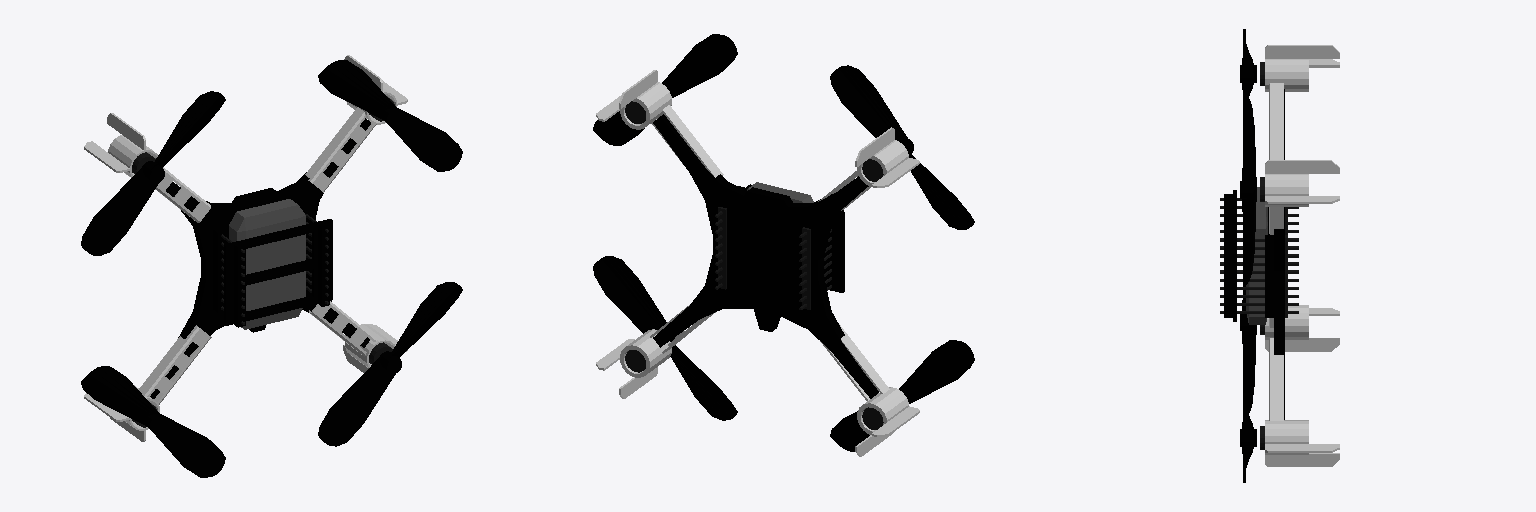
File: cf2_assembly.obj
3 views of the same model, side by side, from view 1: azimuth 30°, elevation 25°; view 2: azimuth 150°, elevation 25°; view 3: azimuth 270°, elevation 25° (orthographic).
Parts seen in each view (by area): view 1: cw_prop, motor_mount, cf_body.001, battery, battery_holder, Cylinder, pin_headers; view 2: cf_body.001, cw_prop, motor_mount, pin_headers, Cylinder, battery_holder; view 3: motor_mount, cw_prop, cf_body.001, pin_headers, battery_holder, battery.
Boxes of the visible parts, <box> form: cw_prop: <box>81,60,462,477</box>; motor_mount: <box>84,55,407,441</box>; cf_body.001: <box>150,118,370,398</box>; battery: <box>229,199,305,329</box>; battery_holder: <box>224,219,332,327</box>; Cylinder: <box>132,98,394,427</box>; pin_headers: <box>221,214,328,324</box>; cf_body.001: <box>653,114,878,398</box>; cw_prop: <box>593,34,974,451</box>; motor_mount: <box>596,70,919,456</box>; pin_headers: <box>715,207,831,309</box>; Cylinder: <box>625,101,883,429</box>; battery_holder: <box>738,184,844,292</box>; motor_mount: <box>1265,45,1339,466</box>; cw_prop: <box>1240,29,1256,482</box>; cf_body.001: <box>1265,89,1284,419</box>; pin_headers: <box>1220,198,1298,317</box>; battery_holder: <box>1224,190,1236,321</box>; battery: <box>1246,187,1267,324</box>.
Size of the model in its own units: 0.0998 by 0.0963 by 0.0272.